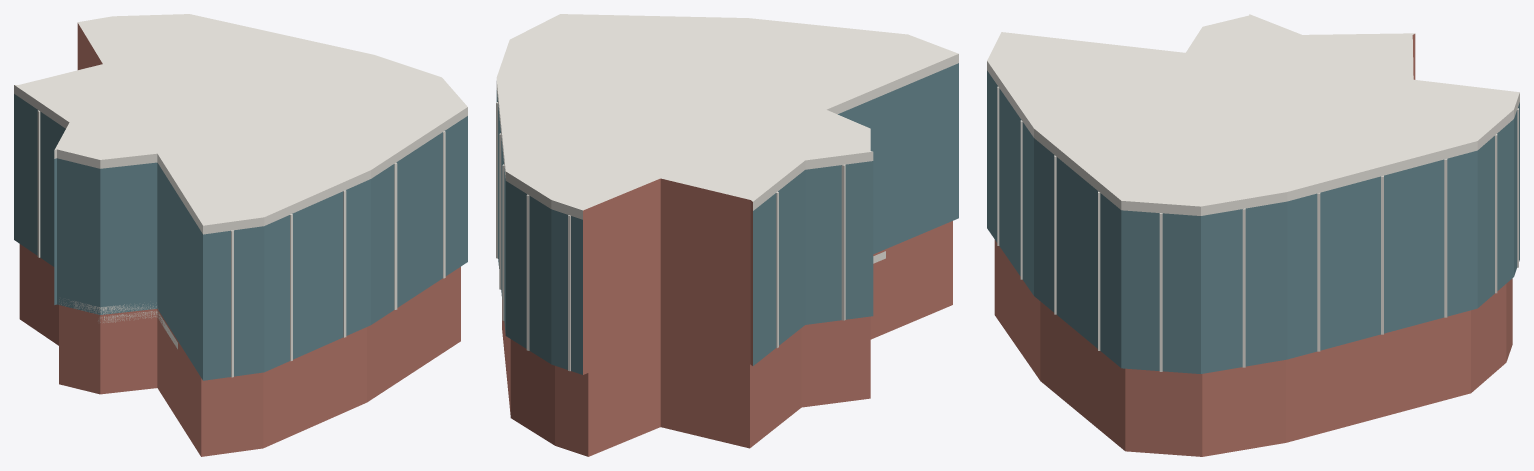
The model's file is gsh.glb.
3 views of the same model, side by side, from view 1: azimuth 30°, elevation 25°; view 2: azimuth 150°, elevation 25°; view 3: azimuth 270°, elevation 25° (orthographic). The views are drawn at different scales.
Parts seen in each view (by area): view 1: GSH_glass, GSH_roof_slab, GSH_base, GSH_mullion_1_1, GSH_mullion_2_0, GSH_mullion_10_0; view 2: GSH_glass, GSH_roof_slab, GSH_base, GSH_mullion_11_0, GSH_mullion_6_0, GSH_mullion_7_0, GSH_mullion_10_0, GSH_mullion_5_1, GSH_mullion_5_2; view 3: GSH_glass, GSH_roof_slab, GSH_base, GSH_mullion_4_0, GSH_mullion_3_0, GSH_mullion_5_0, GSH_mullion_5_2.
Part boxes in pixels (left/top/right/bottom): GSH_glass: left=14, top=32, right=467, bottom=380; GSH_roof_slab: left=14, top=14, right=467, bottom=234; GSH_base: left=19, top=244, right=460, bottom=456; GSH_mullion_1_1: left=343, top=190, right=346, bottom=337; GSH_mullion_2_0: left=394, top=162, right=397, bottom=309; GSH_mullion_10_0: left=37, top=110, right=40, bottom=257; GSH_glass: left=496, top=63, right=958, bottom=374; GSH_roof_slab: left=496, top=14, right=958, bottom=219; GSH_base: left=502, top=221, right=952, bottom=456; GSH_mullion_11_0: left=841, top=164, right=845, bottom=320; GSH_mullion_6_0: left=526, top=194, right=529, bottom=350; GSH_mullion_7_0: left=568, top=215, right=570, bottom=371; GSH_mullion_10_0: left=776, top=191, right=778, bottom=348; GSH_mullion_5_1: left=499, top=133, right=501, bottom=289; GSH_mullion_5_2: left=502, top=164, right=504, bottom=320; GSH_glass: left=987, top=43, right=1519, bottom=373; GSH_roof_slab: left=987, top=14, right=1519, bottom=215; GSH_base: left=994, top=240, right=1512, bottom=456; GSH_mullion_4_0: left=1242, top=208, right=1245, bottom=367; GSH_mullion_3_0: left=1159, top=213, right=1162, bottom=371; GSH_mullion_5_0: left=1317, top=193, right=1320, bottom=351; GSH_mullion_5_2: left=1444, top=159, right=1447, bottom=317.
Bounding box in the file's own units: 21.69 × 13.3 × 25.36.
